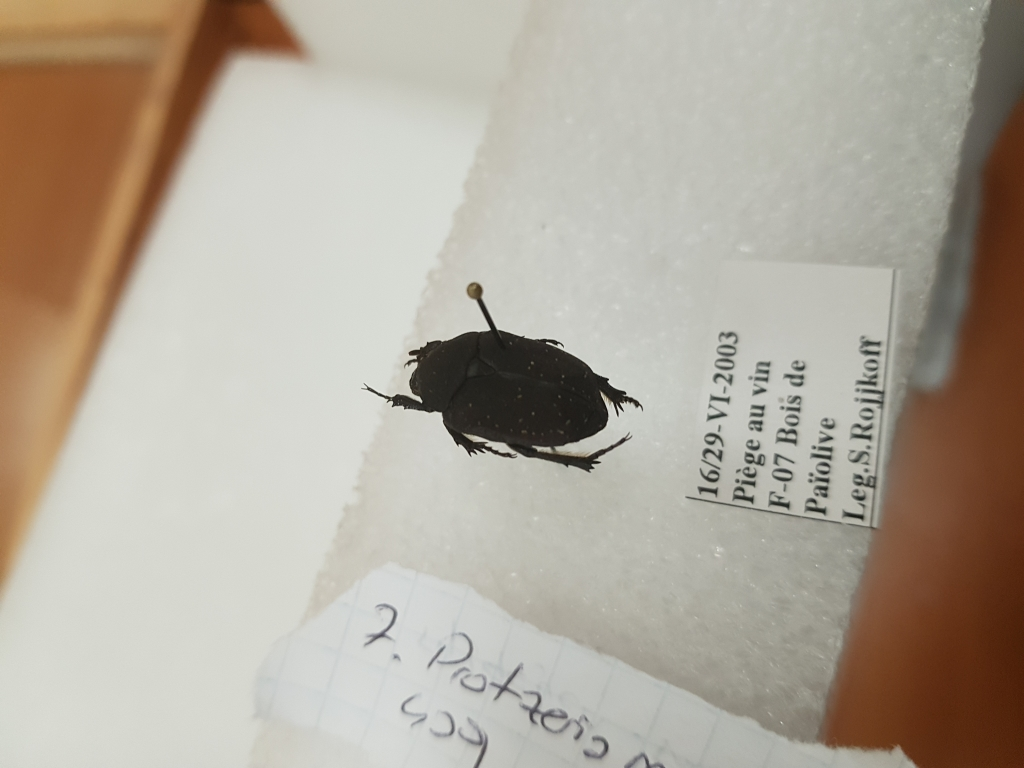Protaetia_morio_morio: (359, 323, 647, 481)
